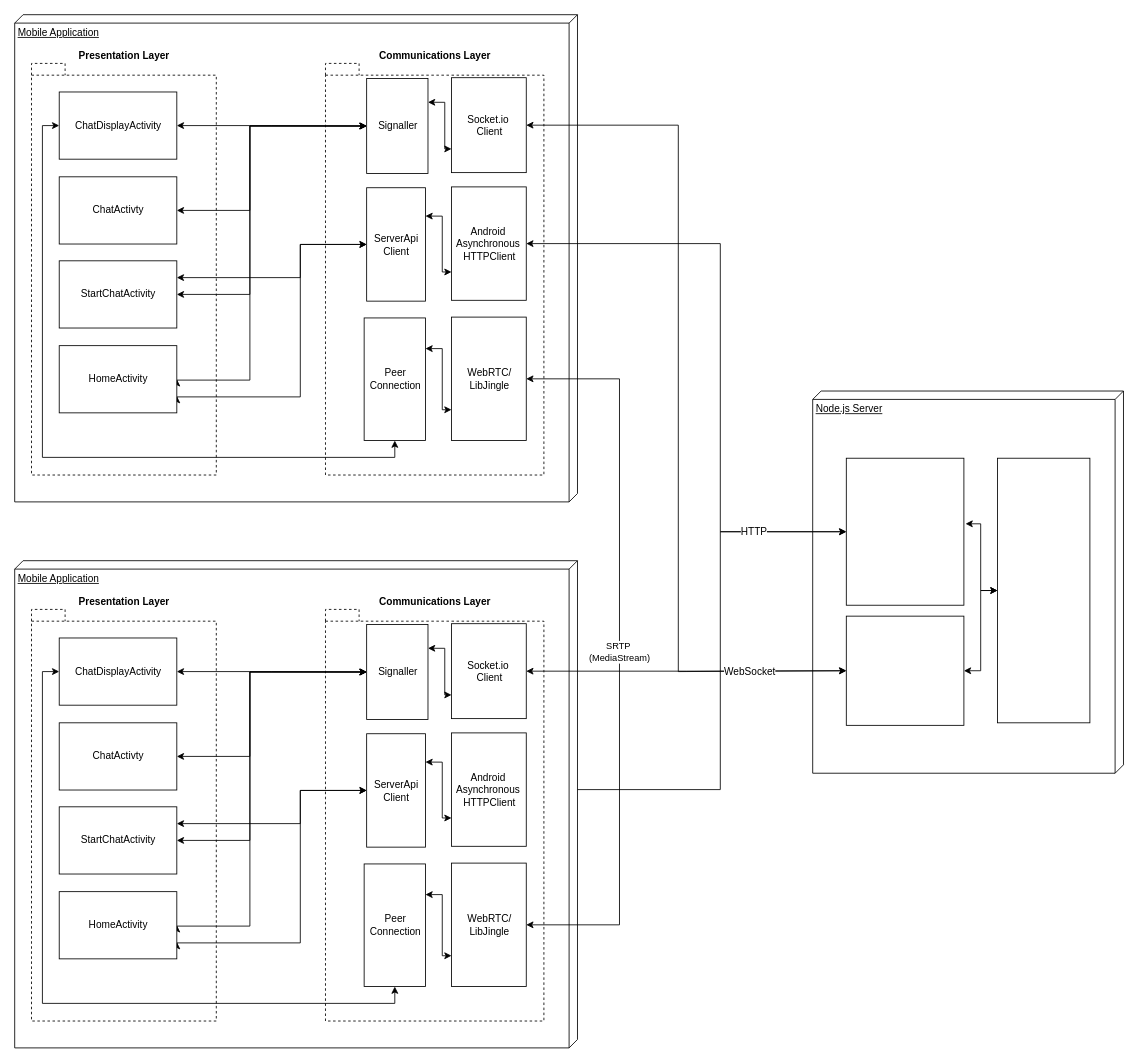
Some shapes in this 1138 by 1063 pixel diagram are drawn without their labels. Each missing label, with the centre of its shape:
"Express.js Web Server" goes at point 904,531.
"Server.js" goes at point 1043,590.
"Socket.io" goes at point 904,670.
